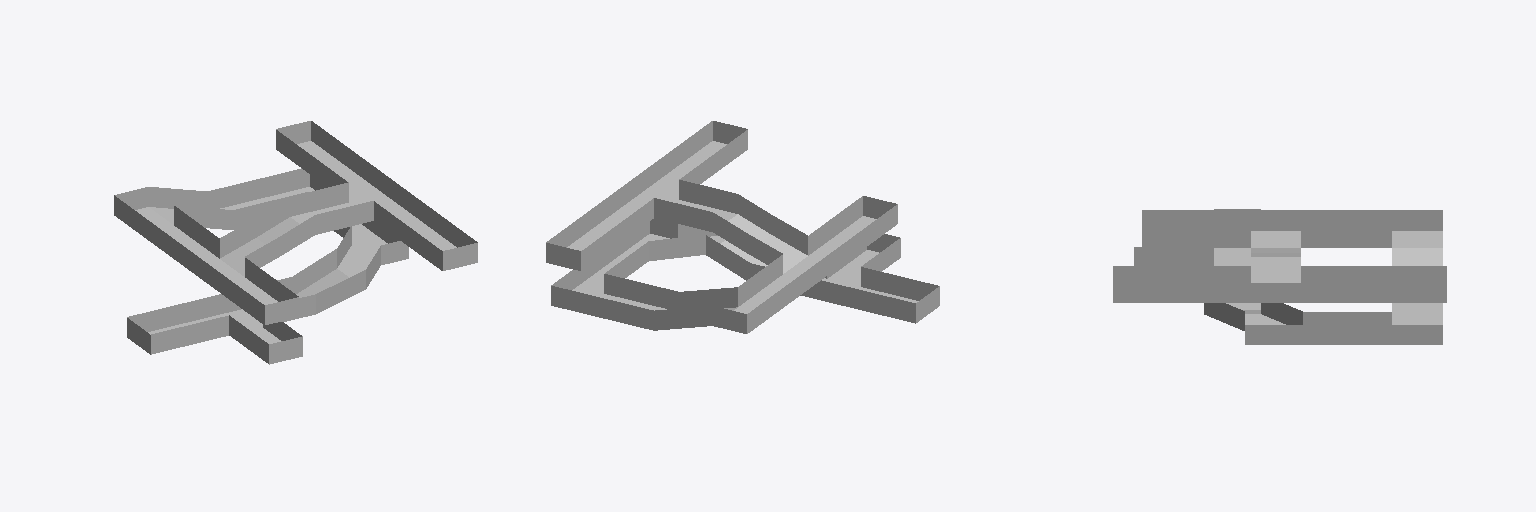
File: dungeon.obj
3 renders of one model, left to right at view 1: azimuth 30°, elevation 25°; view 2: azimuth 150°, elevation 25°; view 3: azimuth 270°, elevation 25°, orthographic.
Parts seen in each view (by area): view 1: Cube; view 2: Cube; view 3: Cube.
Part boxes in pixels (bbox=[...]): Cube: bbox=[114, 121, 477, 364]; Cube: bbox=[546, 121, 939, 333]; Cube: bbox=[1113, 209, 1446, 344].
Size of the model in its own units: 124 by 34.68 by 129.